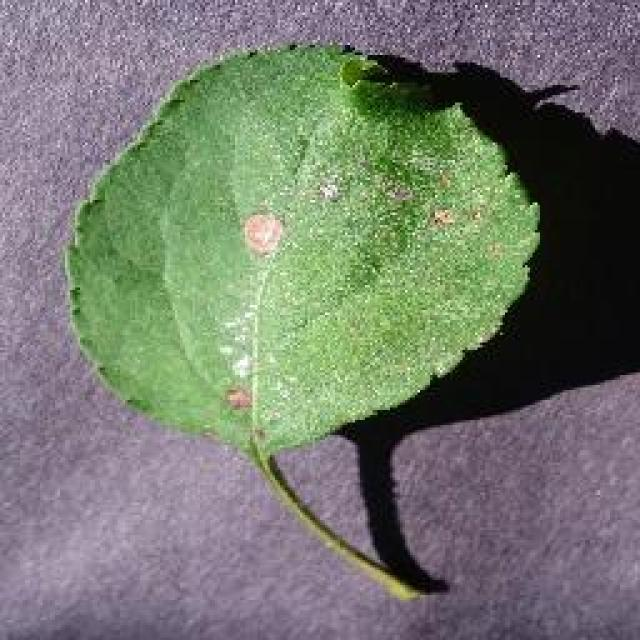Apple___Black_rot: (138, 116, 509, 430)
